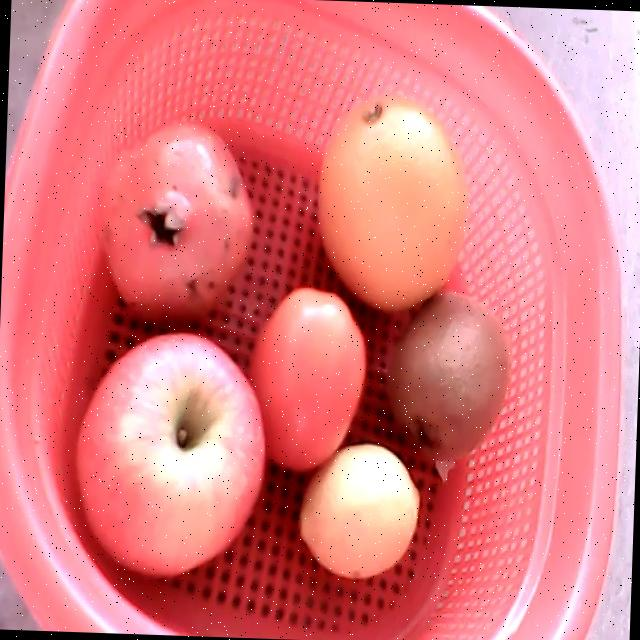apple: (75, 330, 265, 574)
kiwi: (388, 293, 511, 461)
lemon: (299, 443, 420, 576)
orange: (315, 94, 467, 309)
pomegranate: (94, 118, 253, 316)
tomato: (245, 286, 366, 470)
